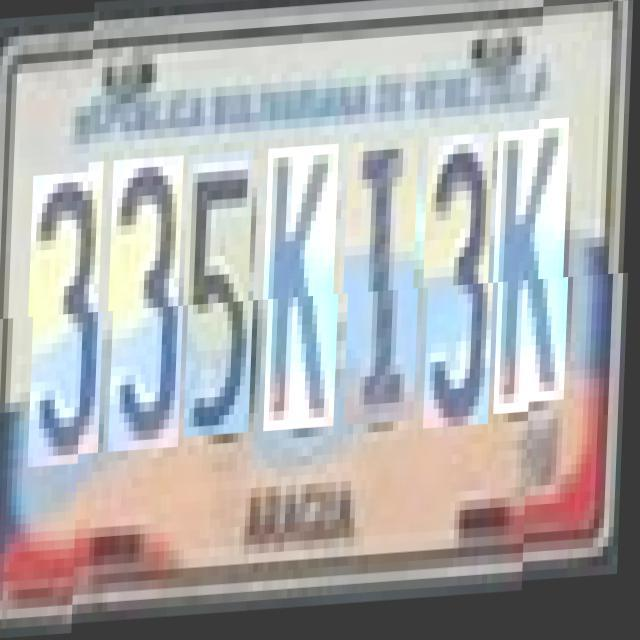3: (32, 163, 110, 459), (112, 158, 190, 454), (427, 140, 500, 436)
5: (187, 154, 260, 440)
I: (347, 144, 425, 431)
K: (267, 148, 345, 436), (497, 136, 575, 422)
